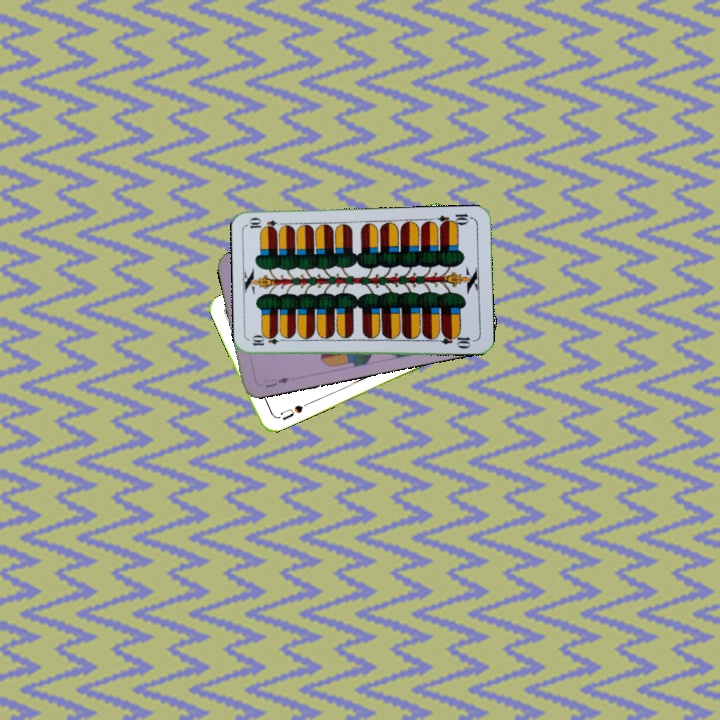E10: (434, 210, 475, 229), (248, 334, 289, 348)
EU: (260, 373, 292, 390)
SU: (276, 399, 310, 423)
